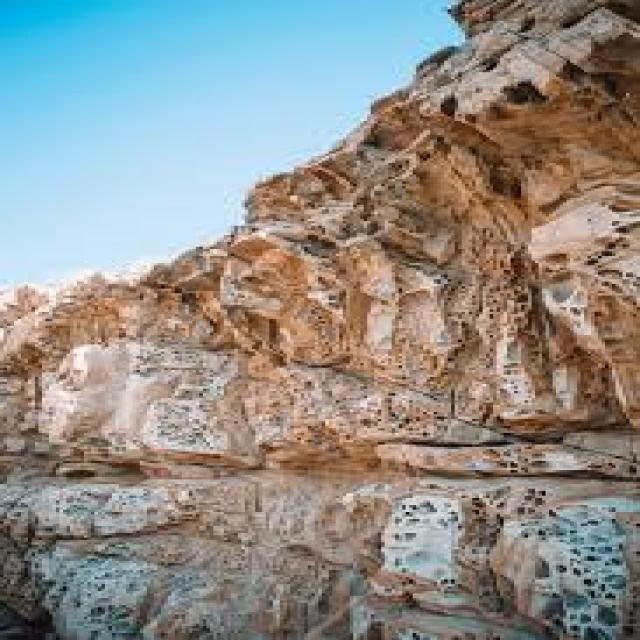Metamorphic: (7, 2, 640, 631)
